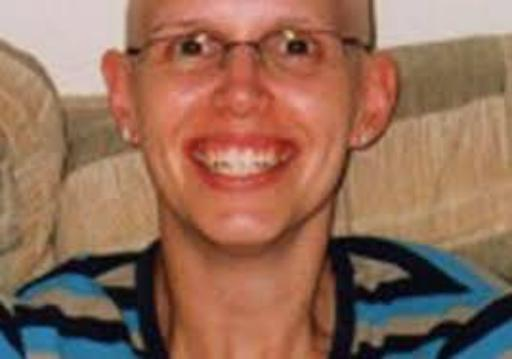left_eye: (274, 37, 329, 61)
left_lip_corner: (282, 138, 316, 162)
right_eye: (162, 38, 222, 63)
right_lip_corner: (176, 139, 207, 162)
